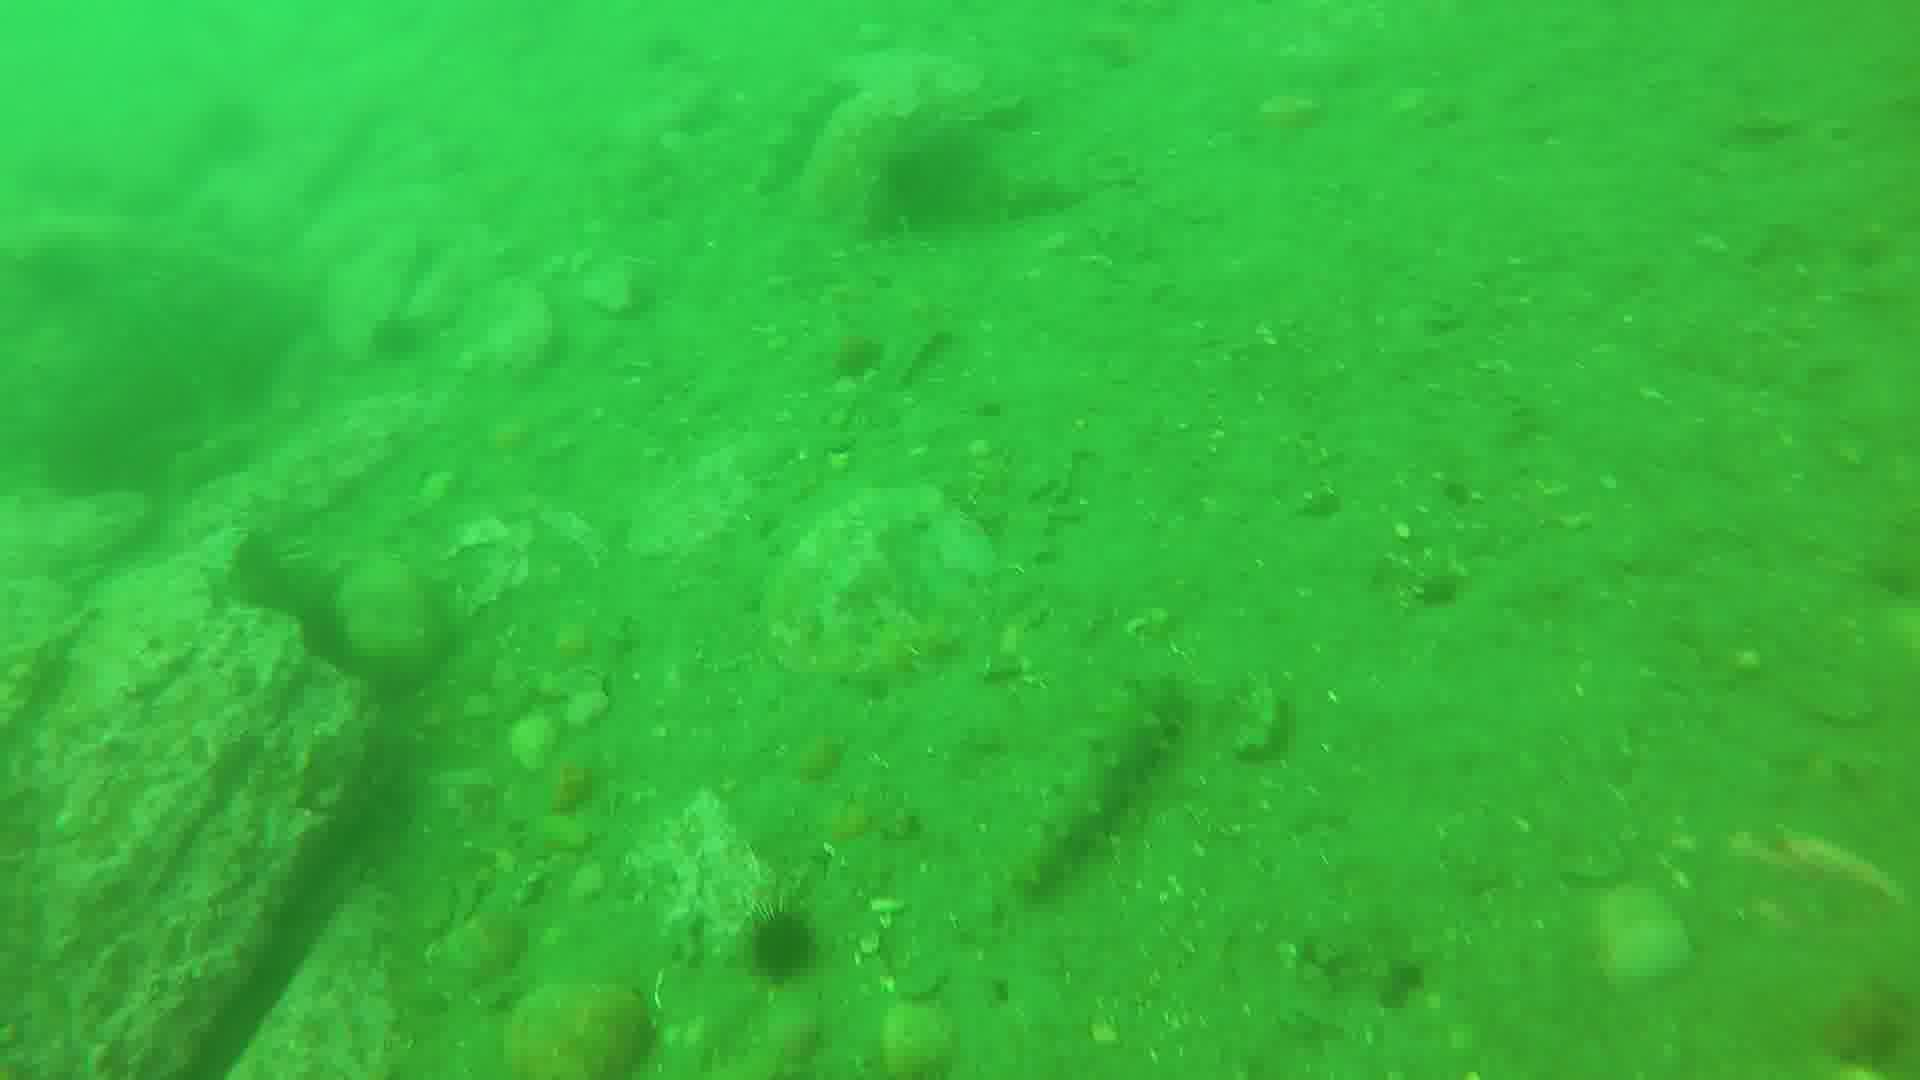echinus: (752, 899, 819, 986)
holothurian: (1018, 670, 1187, 897)
